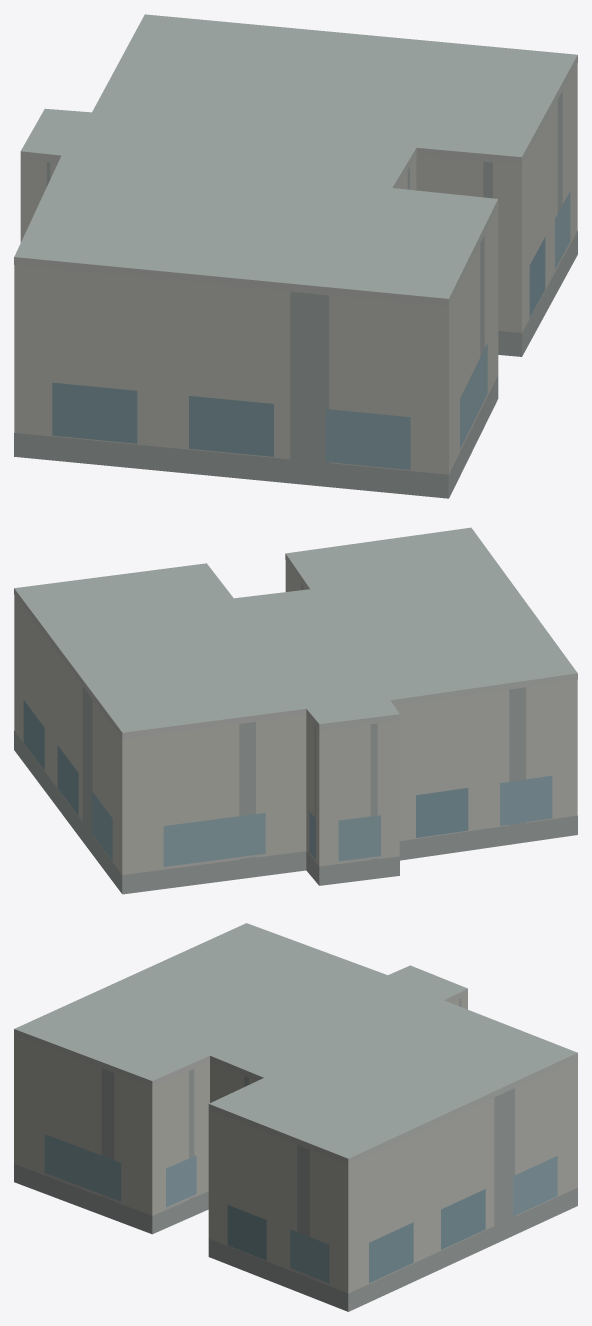
Rendered from survey-upis-32699463.glb.
3 renders of one model, top to bottom at view 1: azimuth 30°, elevation 25°; view 2: azimuth 150°, elevation 25°; view 3: azimuth 270°, elevation 25°, orthographic. The views are drawn at different scales.
Parts seen in each view (by area): view 1: survey-upis-32699463.tmp; view 2: survey-upis-32699463.tmp; view 3: survey-upis-32699463.tmp.
Boxes of the visible parts, x1=… form: survey-upis-32699463.tmp: x1=14, y1=14, x2=577, y2=498; survey-upis-32699463.tmp: x1=14, y1=527, x2=577, y2=894; survey-upis-32699463.tmp: x1=14, y1=923, x2=577, y2=1311.
Bounding box in the file's own units: 20.15 × 6.1 × 20.36.
